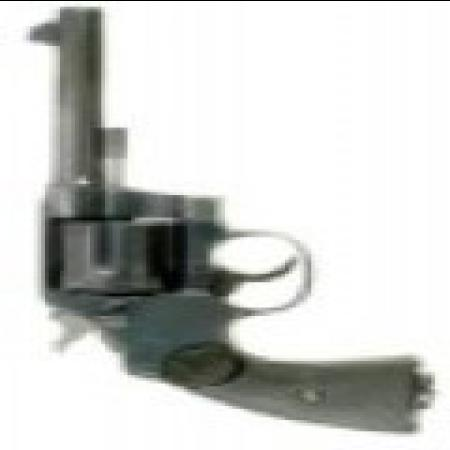Pistol: (15, 3, 409, 433)
